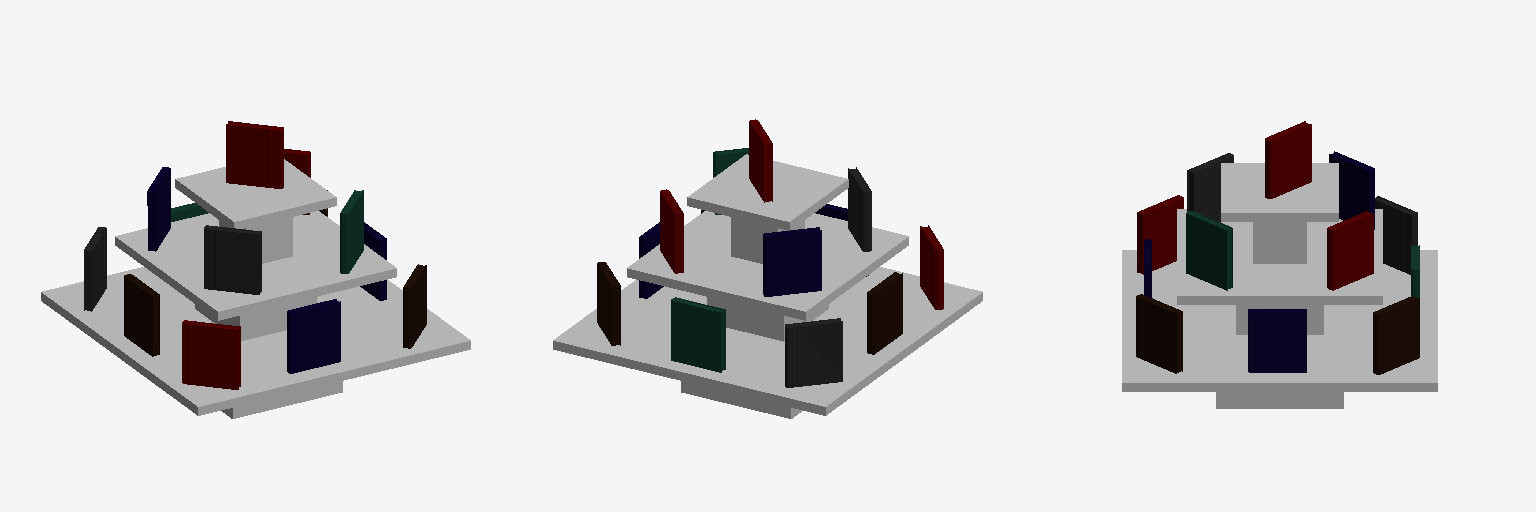
Rendered from showtafel.obj.
3 renders of one model, left to right at view 1: azimuth 30°, elevation 25°; view 2: azimuth 150°, elevation 25°; view 3: azimuth 270°, elevation 25°, orthographic.
Parts seen in each view (by area): view 1: Cube.005, Cube.004, Cube.012, Cube.013, Cube.003, Cube, Cube.007, Cube.011, Cube.009, Cube.001, Cube.006; view 2: Cube.005, Cube.009, Cube.001, Cube.008, Cube, Cube.002, Cube.004, Cube.010, Cube.012, Cube.013, Cube.006, Cube.011; view 3: Cube.005, Cube.006, Cube.011, Cube.007, Cube.010, Cube.002, Cube.013, Cube.004, Cube.001, Cube.009, Cube.012.
Part boxes in pixels (bbox=[...]): Cube.005: bbox=[41, 159, 470, 418]; Cube.004: bbox=[182, 320, 240, 389]; Cube.012: bbox=[204, 225, 261, 294]; Cube.013: bbox=[226, 121, 283, 188]; Cube.003: bbox=[287, 299, 340, 373]; Cube: bbox=[124, 274, 159, 356]; Cube.007: bbox=[403, 264, 426, 348]; Cube.011: bbox=[340, 190, 363, 273]; Cube.009: bbox=[147, 167, 170, 251]; Cube.001: bbox=[84, 227, 106, 311]; Cube.006: bbox=[360, 222, 386, 300]; Cube.005: bbox=[553, 154, 982, 418]; Cube.009: bbox=[763, 227, 821, 296]; Cube.001: bbox=[785, 318, 842, 387]; Cube.008: bbox=[671, 297, 725, 372]; Cube: bbox=[867, 272, 902, 354]; Cube.002: bbox=[597, 262, 620, 345]; Cube.004: bbox=[920, 225, 943, 309]; Cube.010: bbox=[660, 189, 683, 273]; Cube.012: bbox=[848, 167, 871, 251]; Cube.013: bbox=[749, 119, 772, 202]; Cube.006: bbox=[639, 222, 663, 298]; Cube.011: bbox=[713, 148, 748, 214]; Cube.005: bbox=[1122, 163, 1437, 408]; Cube.006: bbox=[1248, 309, 1306, 372]; Cube.011: bbox=[1186, 211, 1232, 290]; Cube.007: bbox=[1136, 294, 1182, 373]; Cube.010: bbox=[1327, 211, 1373, 290]; Cube.002: bbox=[1373, 295, 1419, 374]; Cube.013: bbox=[1265, 121, 1311, 198]; Cube.004: bbox=[1137, 195, 1183, 274]; Cube.001: bbox=[1375, 196, 1417, 274]; Cube.009: bbox=[1329, 151, 1374, 229]; Cube.012: bbox=[1187, 153, 1233, 221].
Size of the model in its own units: 2.24 by 1.98 by 2.24.